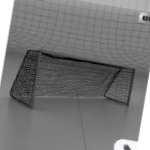goals: (9, 47, 137, 111)
